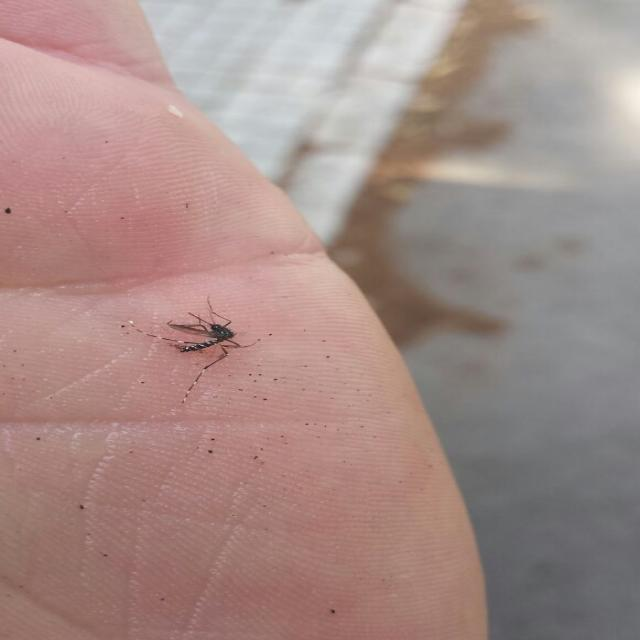albopictus: (114, 295, 278, 405)
